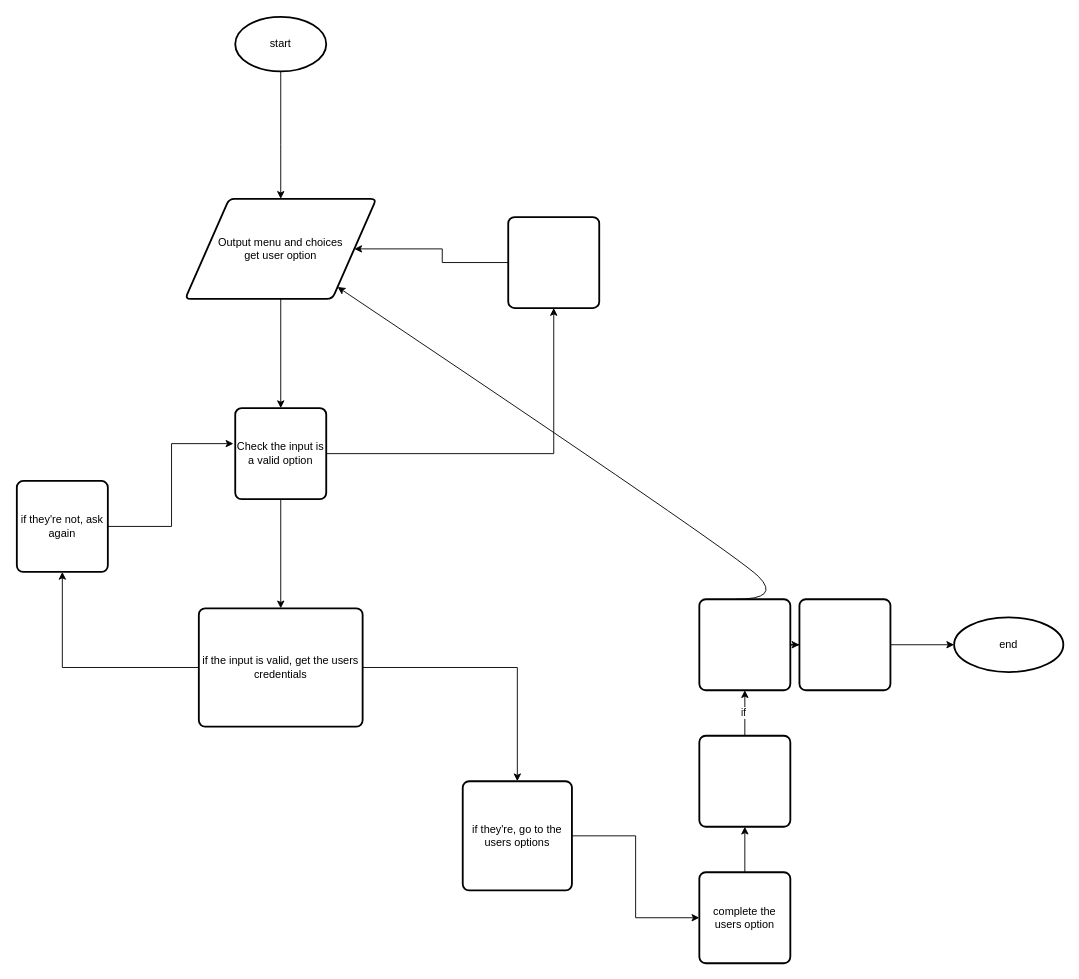
The diagram is 1079 pixels wide and 979 high, and some of its shapes have lost their labels. Each missing label, with the centre of its shape:
"ask if they want to go back to the main menu" belongs at [744,780].
"go back to the menu if its not" belongs at [553,262].
"if they do, go back to the main menu" belongs at [744,644].
"if they don't, end" belongs at [844,644].
